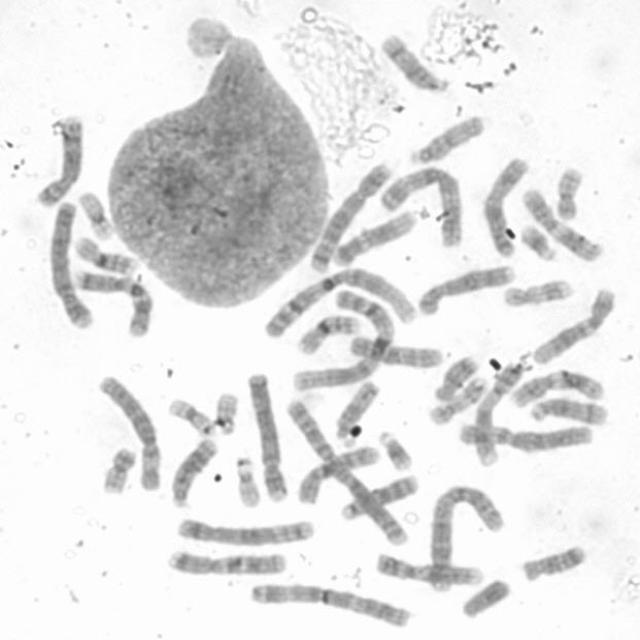A1: (261, 263, 419, 340), (289, 286, 396, 394)
A2: (284, 396, 414, 548), (430, 482, 505, 592)
A3: (379, 166, 466, 250), (249, 583, 412, 627)
B4: (48, 200, 97, 329), (246, 370, 291, 506)
B5: (307, 162, 394, 274), (174, 515, 318, 549)
C10: (296, 444, 382, 506), (348, 333, 446, 370)
C11: (520, 186, 606, 264), (507, 369, 605, 409)
C12: (530, 289, 617, 366), (332, 210, 417, 269)
C6: (94, 373, 163, 493), (456, 420, 594, 456)
C7: (73, 267, 156, 339), (163, 550, 288, 578)
C8: (418, 262, 516, 319), (33, 112, 84, 210)
C9: (471, 361, 521, 467), (371, 550, 484, 588)
D13: (339, 472, 422, 521), (167, 438, 219, 510)
D14: (381, 34, 454, 95), (529, 398, 610, 430)
D15: (407, 113, 485, 165), (334, 379, 381, 449)
E16: (296, 312, 363, 357), (71, 234, 141, 277)
E17: (426, 373, 488, 427), (501, 278, 575, 308)
E18: (520, 543, 588, 584), (432, 353, 481, 403)
F19: (76, 190, 116, 242), (167, 396, 215, 437)
F20: (98, 444, 138, 498), (554, 166, 586, 222)
G21: (378, 428, 417, 473), (520, 222, 560, 265)
G22: (234, 456, 264, 510), (214, 391, 239, 435)
X: (479, 155, 531, 259)
Y: (459, 578, 513, 620)
